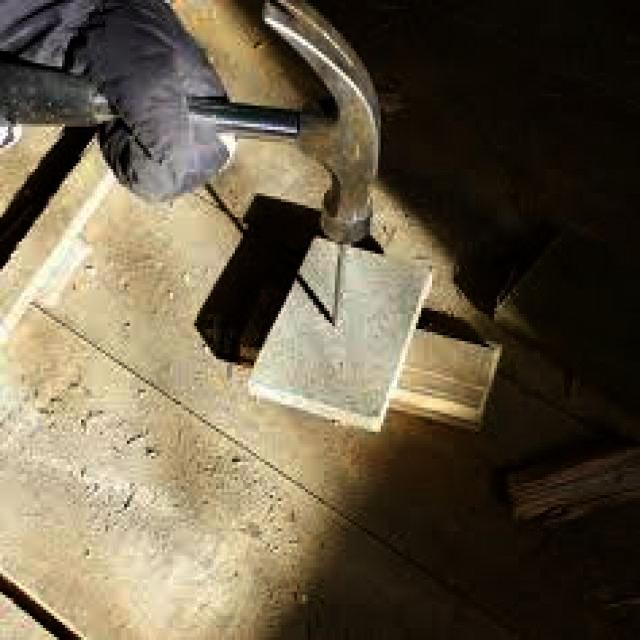hammer: (0, 0, 386, 248)
